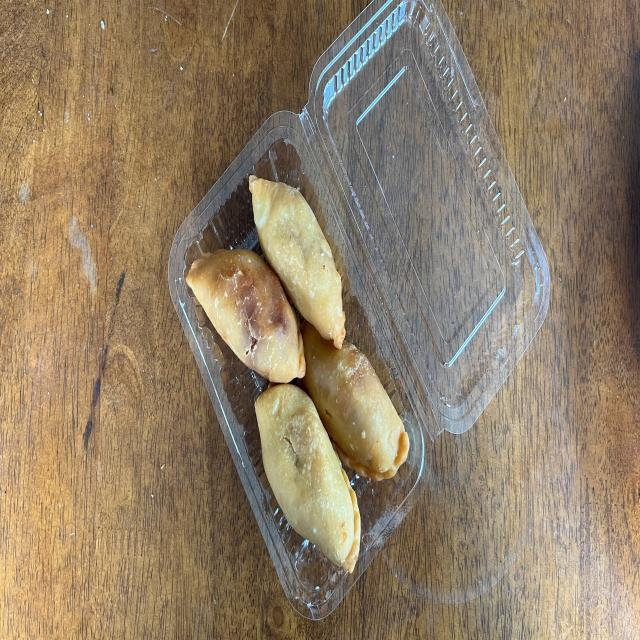karipap: (255, 384, 361, 573), (300, 322, 410, 480), (249, 176, 345, 349), (186, 249, 305, 382)
